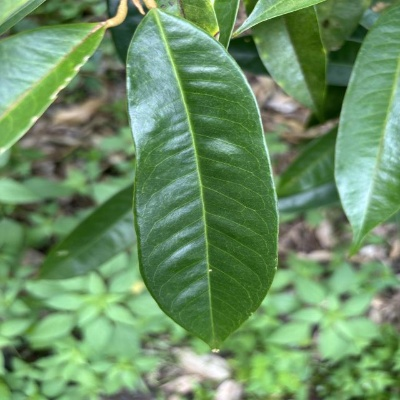Leaf_Healthy: (125, 5, 281, 354)
